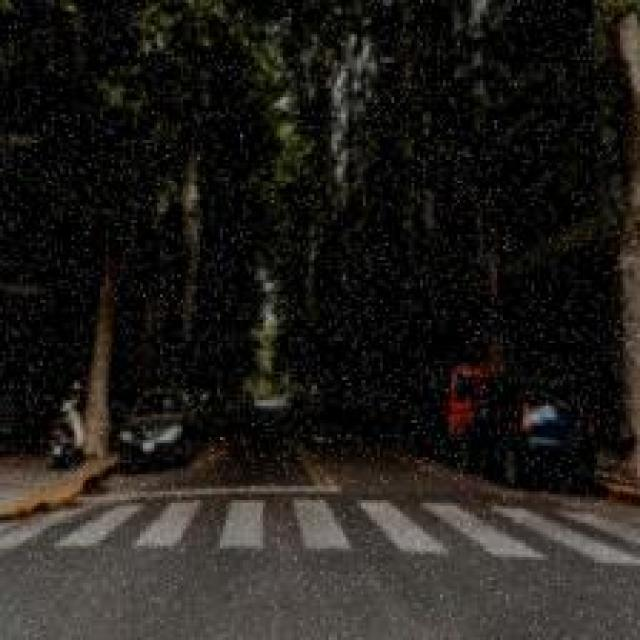crosswalk: (30, 494, 640, 576)
